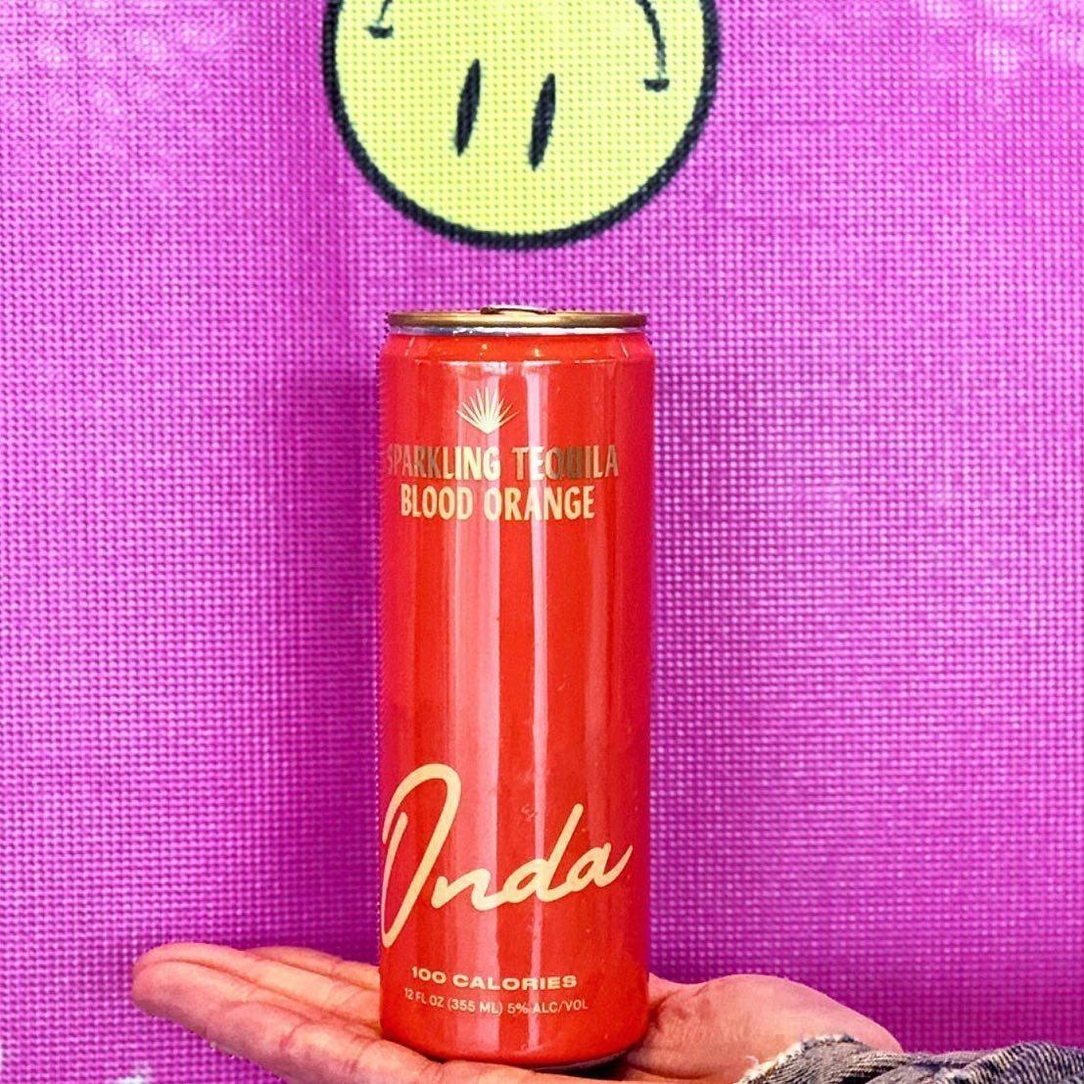tin can: (368, 290, 668, 1084)
